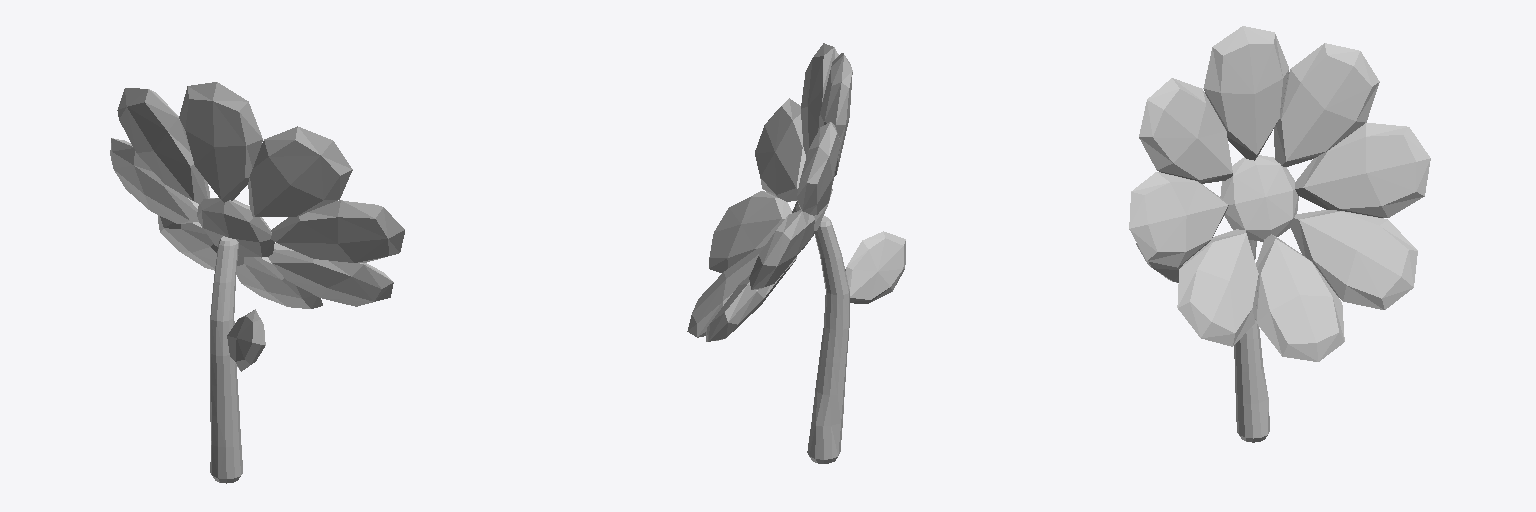
File: flor.obj
3 views of the same model, side by side, from view 1: azimuth 30°, elevation 25°; view 2: azimuth 150°, elevation 25°; view 3: azimuth 270°, elevation 25° (orthographic).
Visible parts, largest first — view 1: petala.004_Cube.008, petala_Cube.001, petala.003_Cube.007, petala.002_Cube.006, Cylinder, miolo_Cube, petala.001_Cube.009; view 2: Cylinder, petala.004_Cube.008, petala_Cube.001, petala.003_Cube.007, petala.002_Cube.006, petala.001_Cube.009; view 3: petala.004_Cube.008, petala.002_Cube.006, petala.003_Cube.007, petala_Cube.001, miolo_Cube, Cylinder.
Boxes of the visible parts, x1,y1,x2,y2 form: petala.004_Cube.008: [117, 88, 393, 306]; petala_Cube.001: [110, 138, 404, 262]; petala.003_Cube.007: [179, 82, 322, 308]; petala.002_Cube.006: [158, 126, 352, 270]; Cylinder: [210, 236, 242, 483]; miolo_Cube: [197, 198, 274, 257]; petala.001_Cube.009: [227, 309, 265, 371]; Cylinder: [807, 216, 849, 463]; petala.004_Cube.008: [709, 122, 840, 272]; petala_Cube.001: [749, 98, 814, 289]; petala.003_Cube.007: [687, 53, 852, 337]; petala.002_Cube.006: [706, 43, 838, 341]; petala.001_Cube.009: [845, 231, 905, 303]; petala.004_Cube.008: [1177, 43, 1379, 346]; petala.002_Cube.006: [1139, 78, 1417, 309]; petala.003_Cube.007: [1203, 26, 1344, 361]; petala_Cube.001: [1129, 123, 1430, 267]; miolo_Cube: [1220, 155, 1298, 241]; Cylinder: [1234, 239, 1269, 442].
Size of the model in its own units: 2.36 by 4.78 by 3.24.